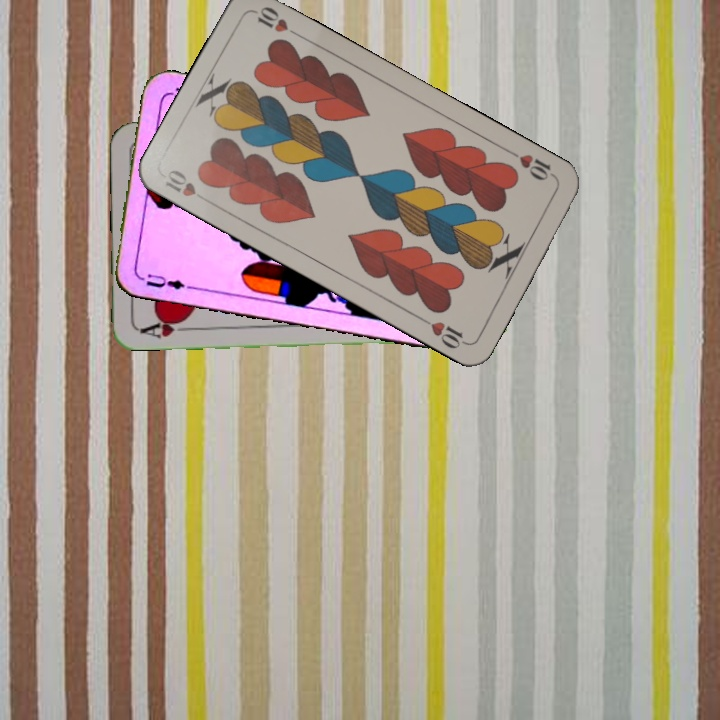EU: (142, 270, 192, 292)
H10: (161, 165, 214, 207), (505, 147, 559, 184)
HA: (136, 314, 195, 342)
